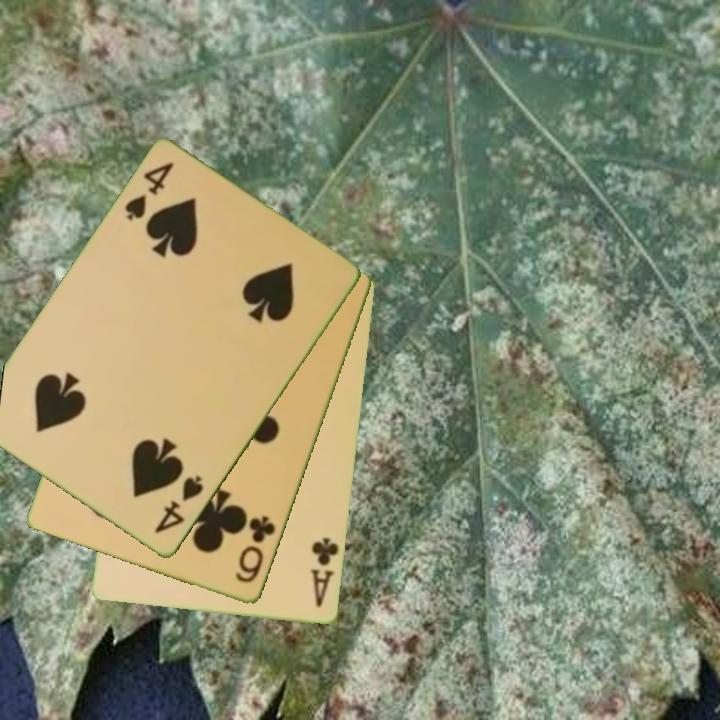4s: (150, 472, 207, 538), (121, 159, 177, 224)
6c: (232, 512, 279, 587)
Ac: (307, 534, 342, 611)
